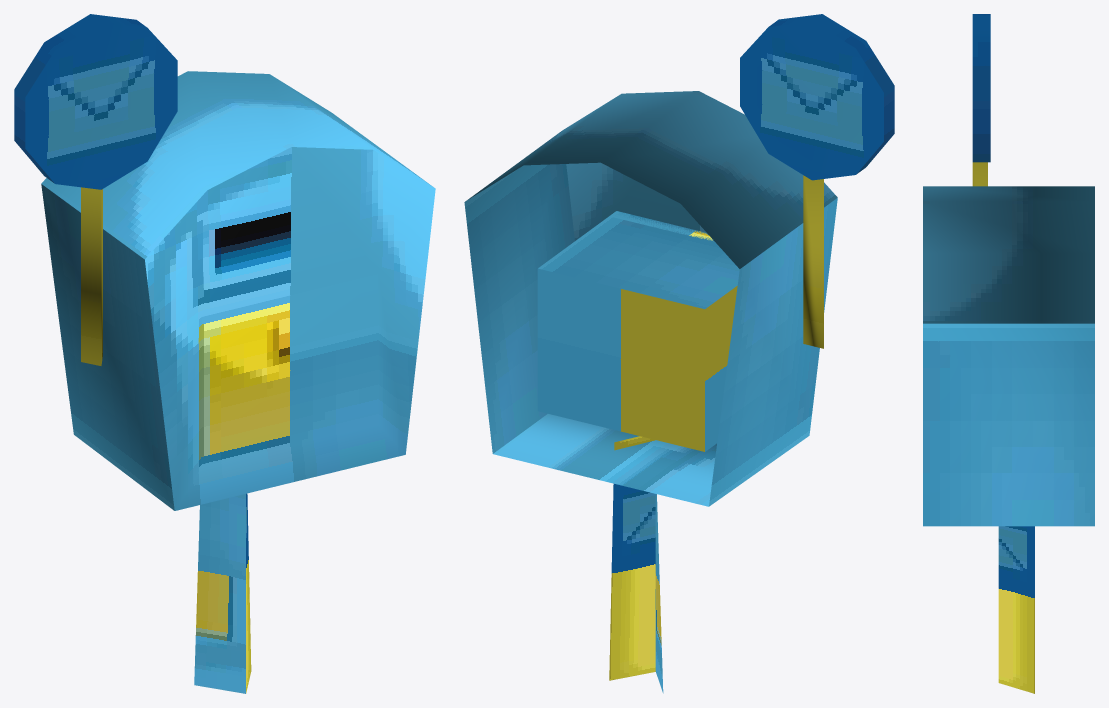
File: int_post_E00.dae
3 views of the same model, side by side, from view 1: azimuth 30°, elevation 25°; view 2: azimuth 150°, elevation 25°; view 3: azimuth 270°, elevation 25° (orthographic). The views are drawn at different scales.
Visible parts, largest first — view 1: int_post_E00; view 2: int_post_E00; view 3: int_post_E00.
Part boxes in pixels (left/top/right/bottom): int_post_E00: left=14, top=14, right=435, bottom=693; int_post_E00: left=464, top=14, right=894, bottom=693; int_post_E00: left=923, top=14, right=1094, bottom=693.
Bounding box in the file's own units: 26.26 × 47.64 × 12.38.
1 material, 1 textured.
